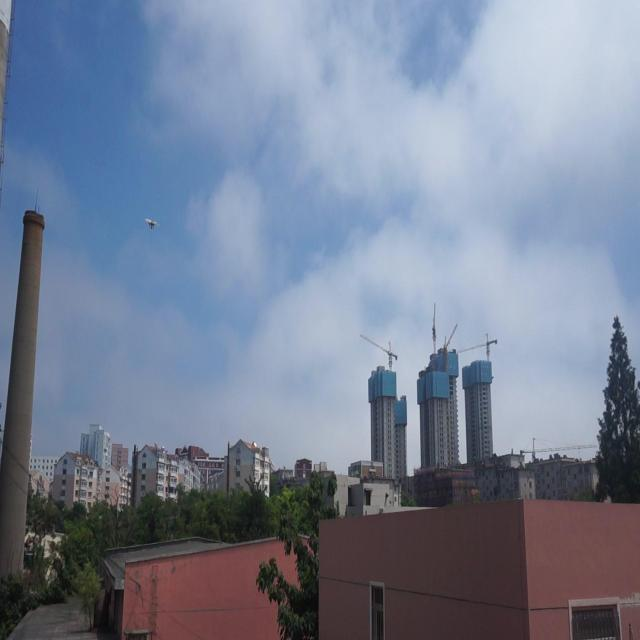drone: (145, 214, 158, 234)
